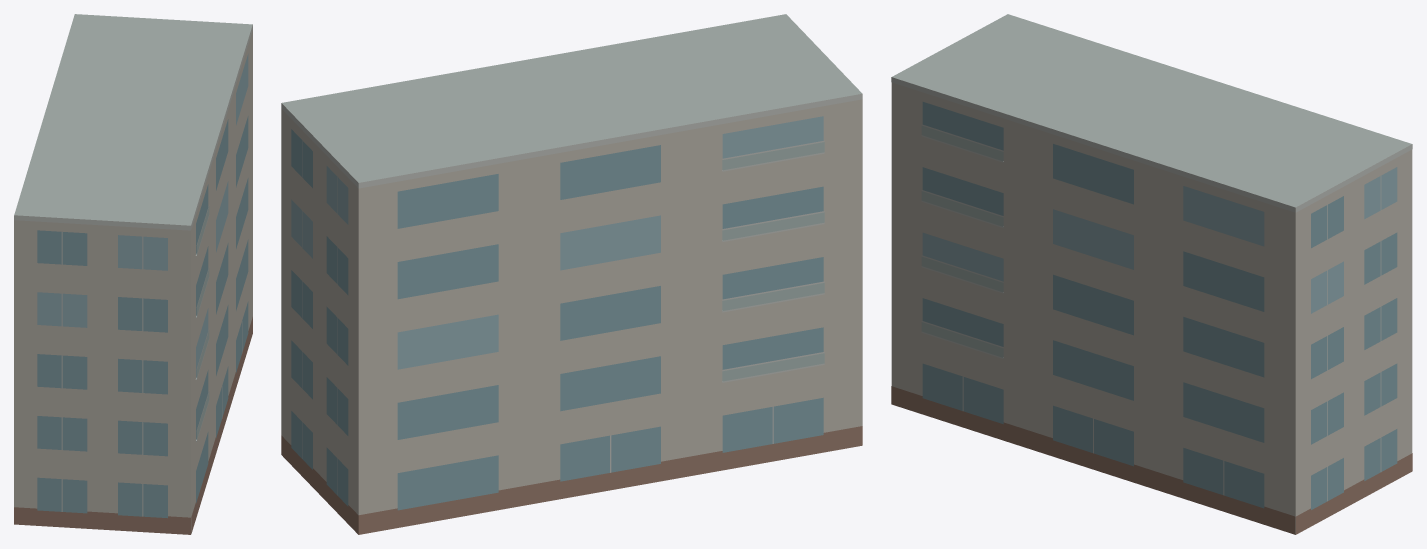
Rendered from survey-upis-32920422.glb.
3 views of the same model, side by side, from view 1: azimuth 30°, elevation 25°; view 2: azimuth 150°, elevation 25°; view 3: azimuth 270°, elevation 25° (orthographic). The views are drawn at different scales.
Parts seen in each view (by area): view 1: survey-upis-32920422.tmp; view 2: survey-upis-32920422.tmp; view 3: survey-upis-32920422.tmp.
Boxes of the visible parts, <box> form: survey-upis-32920422.tmp: <box>14,14,252,534</box>; survey-upis-32920422.tmp: <box>281,14,862,534</box>; survey-upis-32920422.tmp: <box>891,14,1412,534</box>.
Size of the model in its own units: 19.35 by 15.25 by 22.
